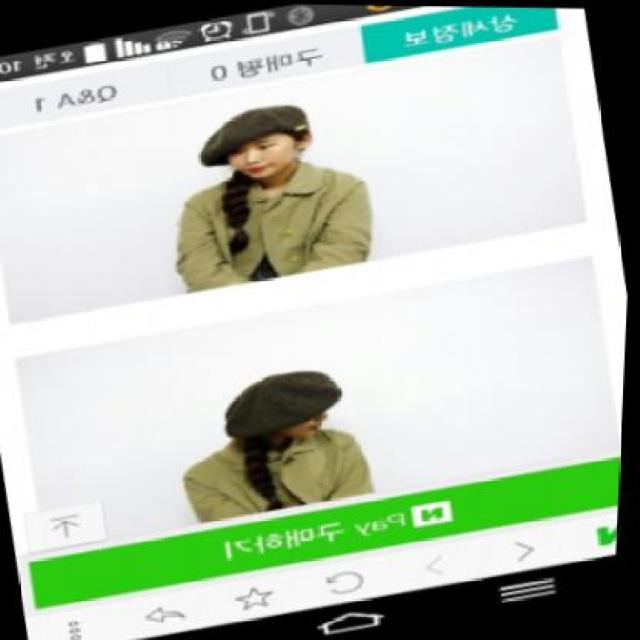hat: (211, 352, 349, 451), (188, 90, 322, 172)
